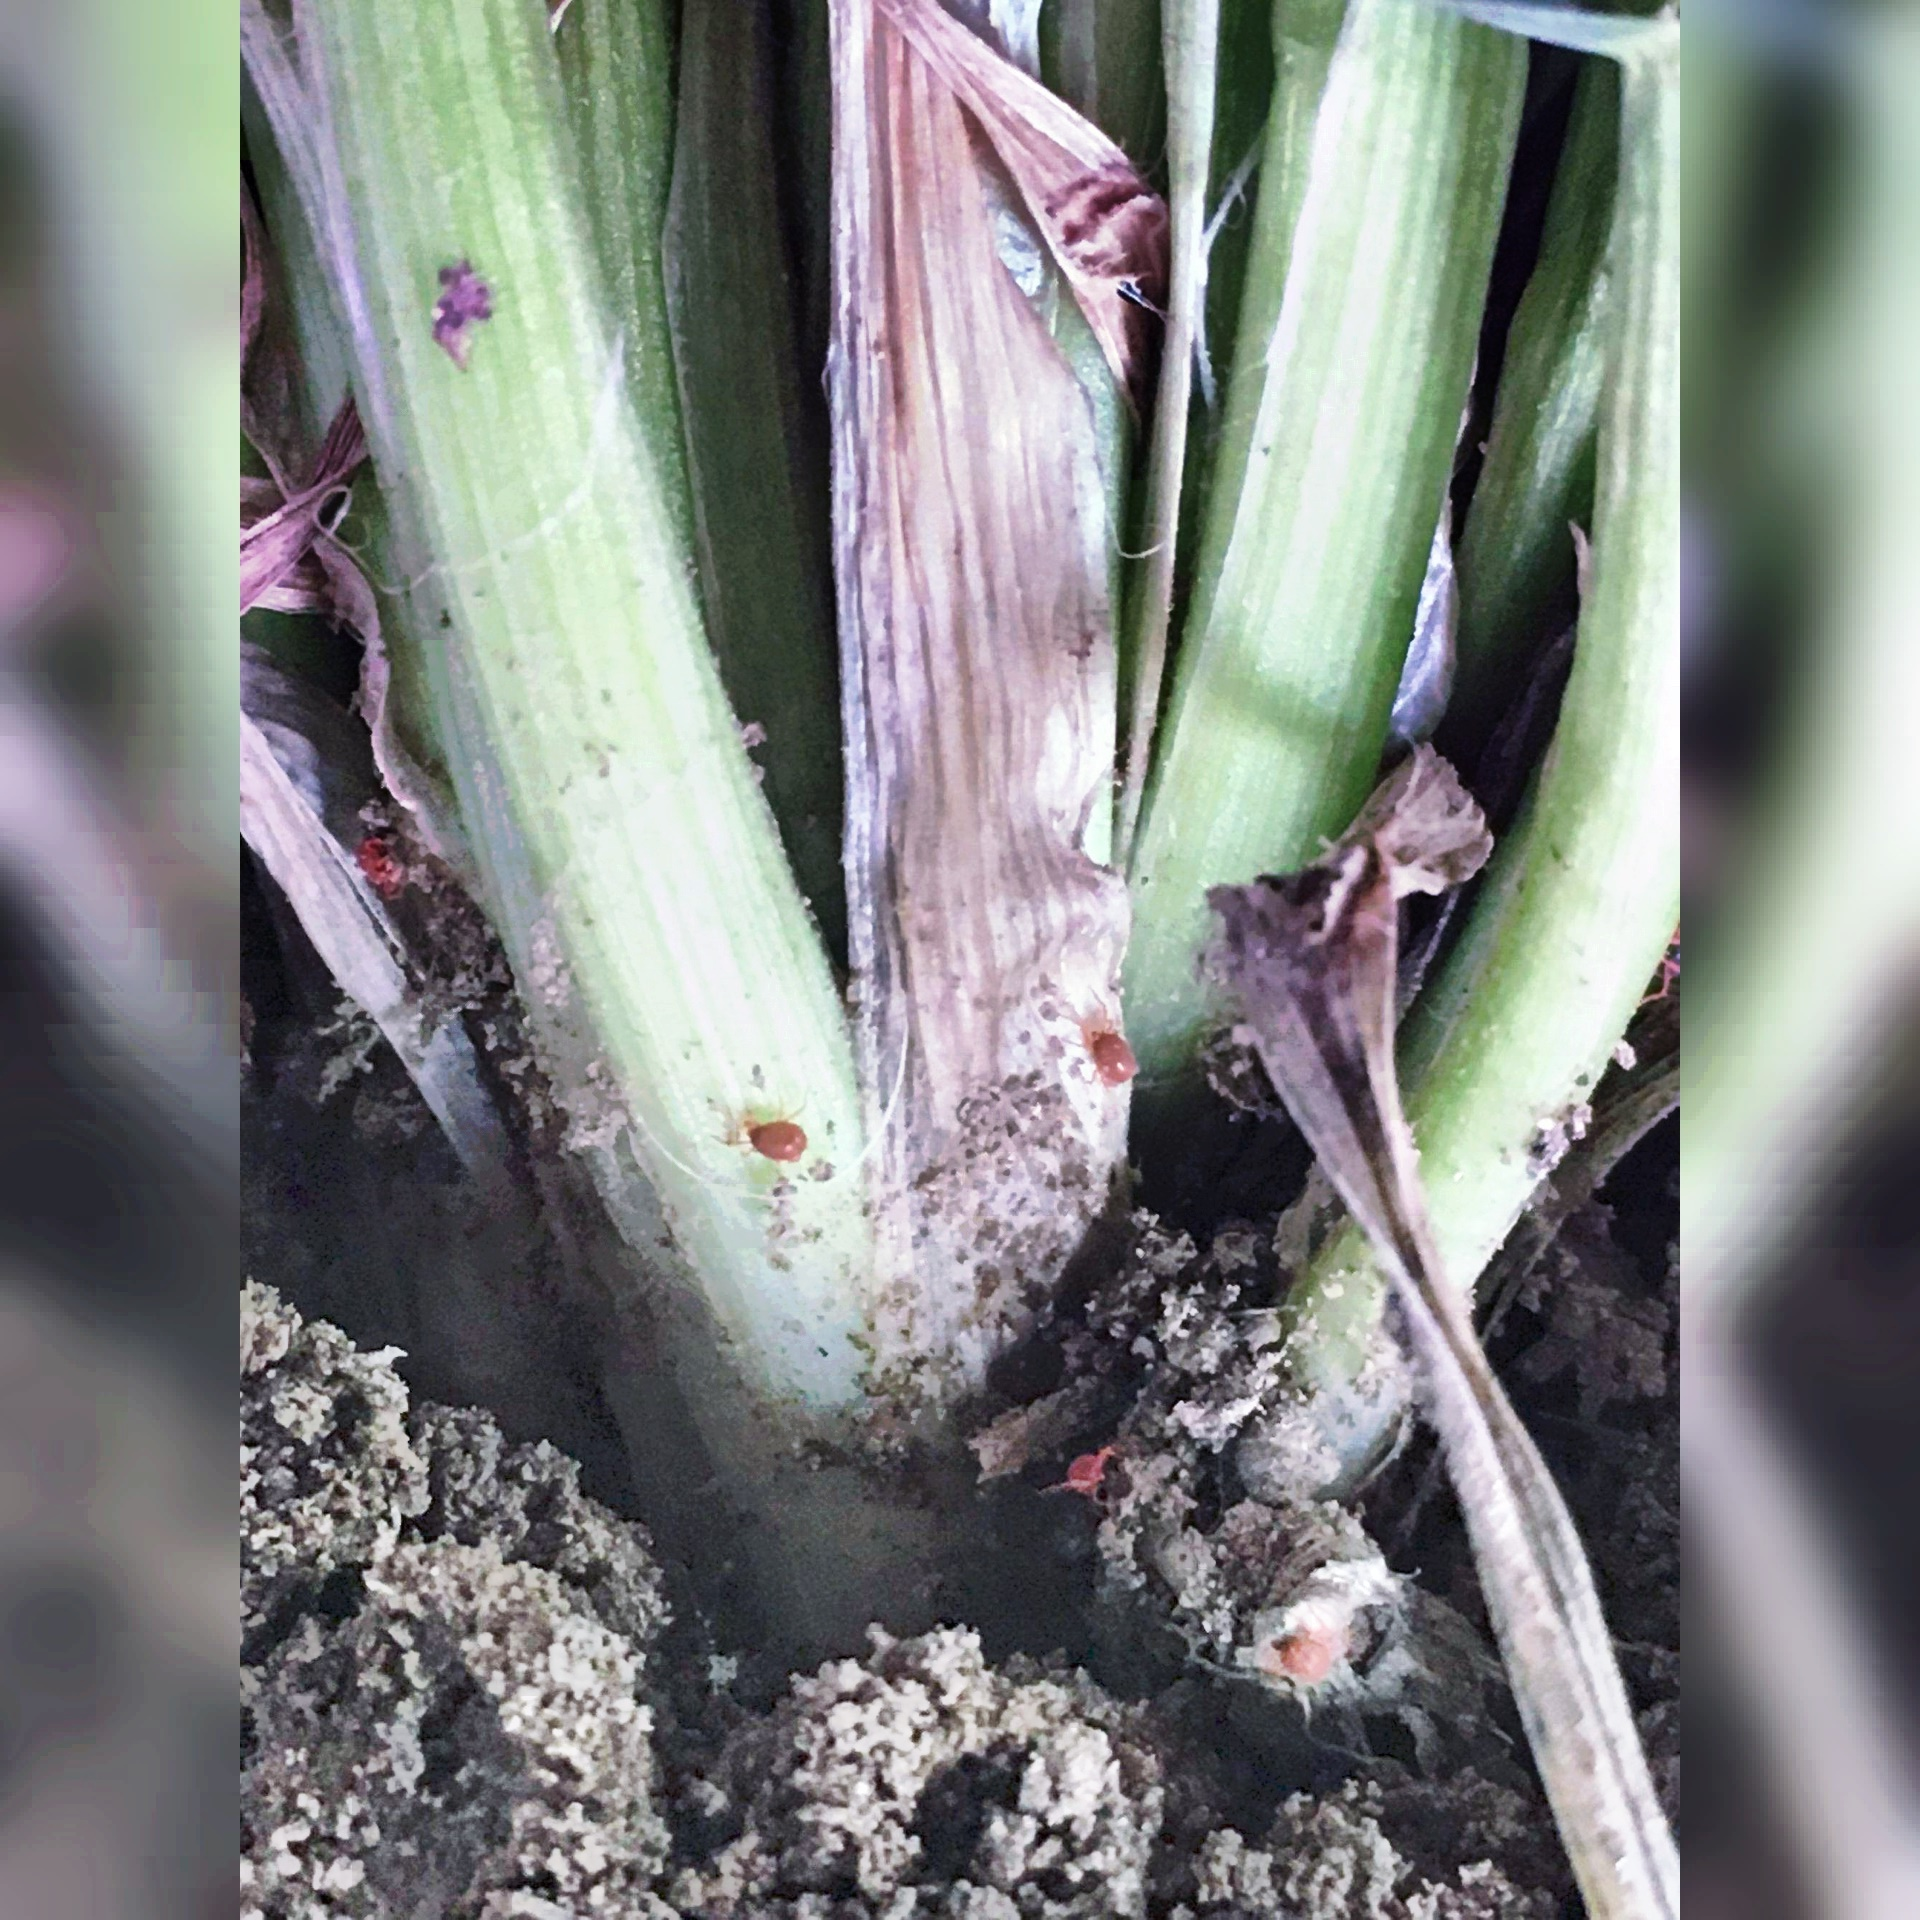Wheat Red Spider: (686, 1090, 833, 1182), (1051, 986, 1157, 1104)
